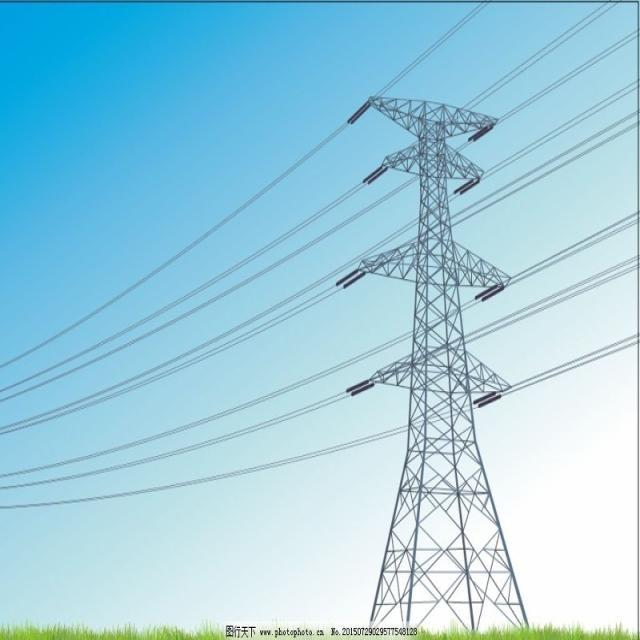non-critical vegetation: (336, 81, 550, 624)
